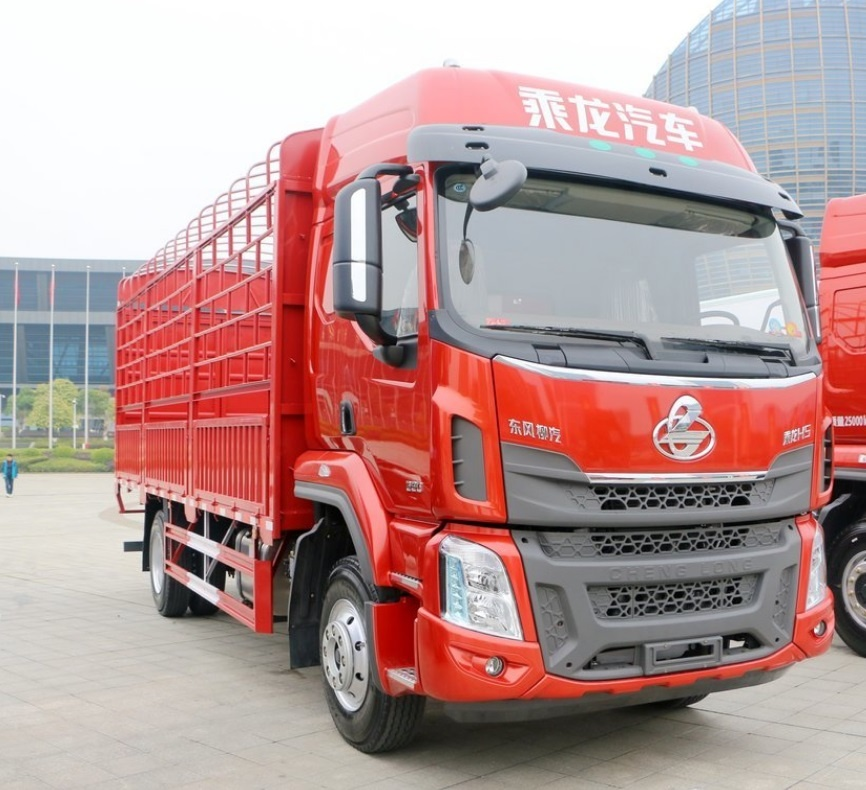heavy truck: (86, 89, 828, 749)
